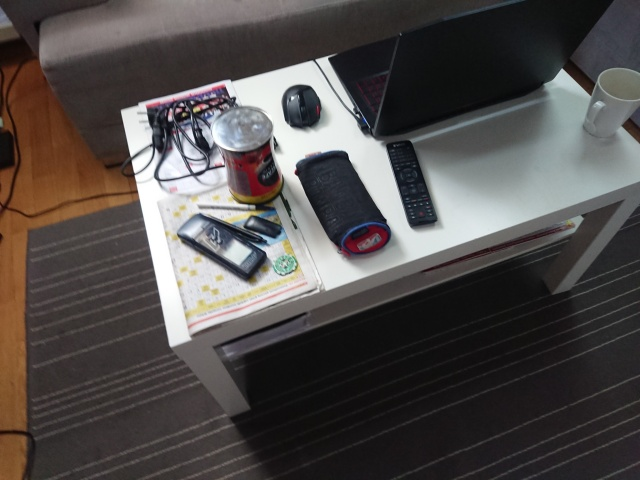Nescafe Classic 225g: (207, 103, 287, 208)
